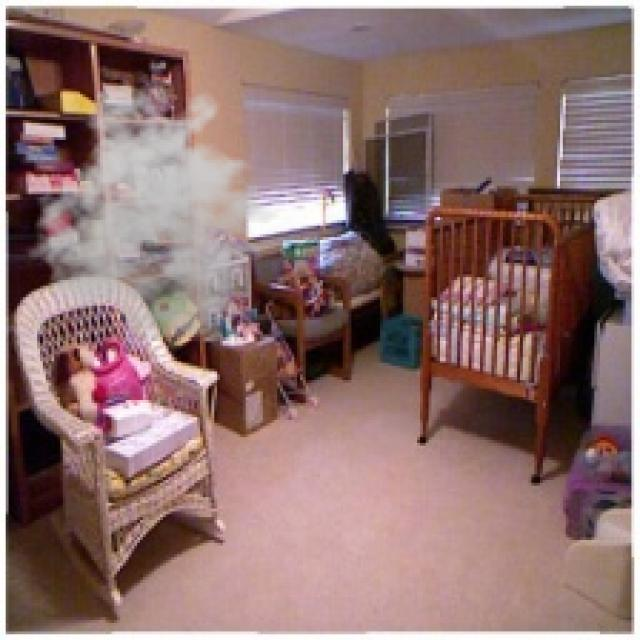smoke: (26, 83, 294, 343)
